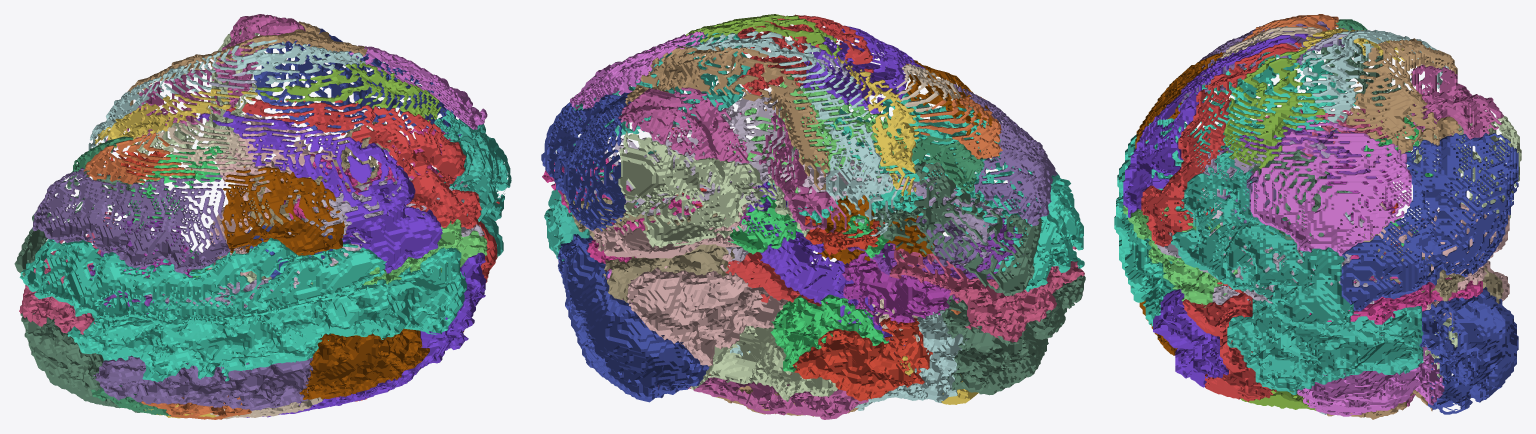
File: aparc.DKTatlas+aseg.glb
The picture shows the model from 3 angles, left to right: view 1: azimuth 30°, elevation 25°; view 2: azimuth 150°, elevation 25°; view 3: azimuth 270°, elevation 25°; orthographic projection. The views are drawn at different scales.
Parts seen in each view (by area): view 1: 2028_ctx-rh-superiorfrontal, 1028_ctx-lh-superiorfrontal, 1027_ctx-lh-rostralmiddlefrontal, 1024_ctx-lh-precentral, 1022_ctx-lh-postcentral, 2027_ctx-rh-rostralmiddlefrontal, 1003_ctx-lh-caudalmiddlefrontal, 2003_ctx-rh-caudalmiddlefrontal, 1011_ctx-lh-lateraloccipital, 1030_ctx-lh-superiortemporal, 1009_ctx-lh-inferiortemporal, 2012_ctx-rh-lateralorbitofrontal (+30 smaller); view 2: 2011_ctx-rh-lateraloccipital, 1007_ctx-lh-fusiform, 2013_ctx-rh-lingual, 1009_ctx-lh-inferiortemporal, 1011_ctx-lh-lateraloccipital, 1012_ctx-lh-lateralorbitofrontal, 1030_ctx-lh-superiortemporal, 1015_ctx-lh-middletemporal, 2006_ctx-rh-entorhinal, 2012_ctx-rh-lateralorbitofrontal, 1028_ctx-lh-superiorfrontal, 1027_ctx-lh-rostralmiddlefrontal (+38 smaller); view 3: 1011_ctx-lh-lateraloccipital, 1029_ctx-lh-superiorparietal, 1008_ctx-lh-inferiorparietal, 2029_ctx-rh-superiorparietal, 2011_ctx-rh-lateraloccipital, 1015_ctx-lh-middletemporal, 1022_ctx-lh-postcentral, 1024_ctx-lh-precentral, 1028_ctx-lh-superiorfrontal, 2008_ctx-rh-inferiorparietal, 1031_ctx-lh-supramarginal, 2022_ctx-rh-postcentral (+31 smaller).
Part boxes in pixels (x1,y1,x2,y2): 2028_ctx-rh-superiorfrontal: (67,247,466,382); 1028_ctx-lh-superiorfrontal: (19,238,385,327); 1027_ctx-lh-rostralmiddlefrontal: (32,167,230,273); 1024_ctx-lh-precentral: (196,110,442,273); 1022_ctx-lh-postcentral: (226,98,481,229); 2027_ctx-rh-rostralmiddlefrontal: (93,355,313,410); 1003_ctx-lh-caudalmiddlefrontal: (222,166,346,255); 2003_ctx-rh-caudalmiddlefrontal: (299,328,429,399); 1011_ctx-lh-lateraloccipital: (253,26,461,136); 1030_ctx-lh-superiortemporal: (88,39,365,175); 1009_ctx-lh-inferiortemporal: (105,14,305,151); 2012_ctx-rh-lateralorbitofrontal: (20,313,144,412); 2011_ctx-rh-lateraloccipital: (557,234,709,402); 1007_ctx-lh-fusiform: (618,131,809,247); 2013_ctx-rh-lingual: (626,254,788,366); 1009_ctx-lh-inferiortemporal: (618,87,846,232); 1011_ctx-lh-lateraloccipital: (541,92,630,231); 1012_ctx-lh-lateralorbitofrontal: (874,162,1041,295); 1030_ctx-lh-superiortemporal: (685,31,897,236); 1015_ctx-lh-middletemporal: (625,46,829,190); 2006_ctx-rh-entorhinal: (790,317,932,401); 2012_ctx-rh-lateralorbitofrontal: (942,275,1085,395); 1028_ctx-lh-superiorfrontal: (881,89,1083,291); 1027_ctx-lh-rostralmiddlefrontal: (953,84,1057,225); 1011_ctx-lh-lateraloccipital: (1340,133,1518,311); 1029_ctx-lh-superiorparietal: (1171,155,1354,332); 1008_ctx-lh-inferiorparietal: (1251,119,1411,256); 2029_ctx-rh-superiorparietal: (1227,285,1423,394); 2011_ctx-rh-lateraloccipital: (1419,287,1518,414); 1015_ctx-lh-middletemporal: (1346,38,1461,153); 1022_ctx-lh-postcentral: (1141,41,1301,246); 1024_ctx-lh-precentral: (1123,33,1309,217); 1028_ctx-lh-superiorfrontal: (1117,50,1357,209); 2008_ctx-rh-inferiorparietal: (1297,347,1444,416); 1031_ctx-lh-supramarginal: (1224,48,1325,169); 2022_ctx-rh-postcentral: (1182,282,1276,401).
Size of the model in its own units: 187 by 130 by 137.
